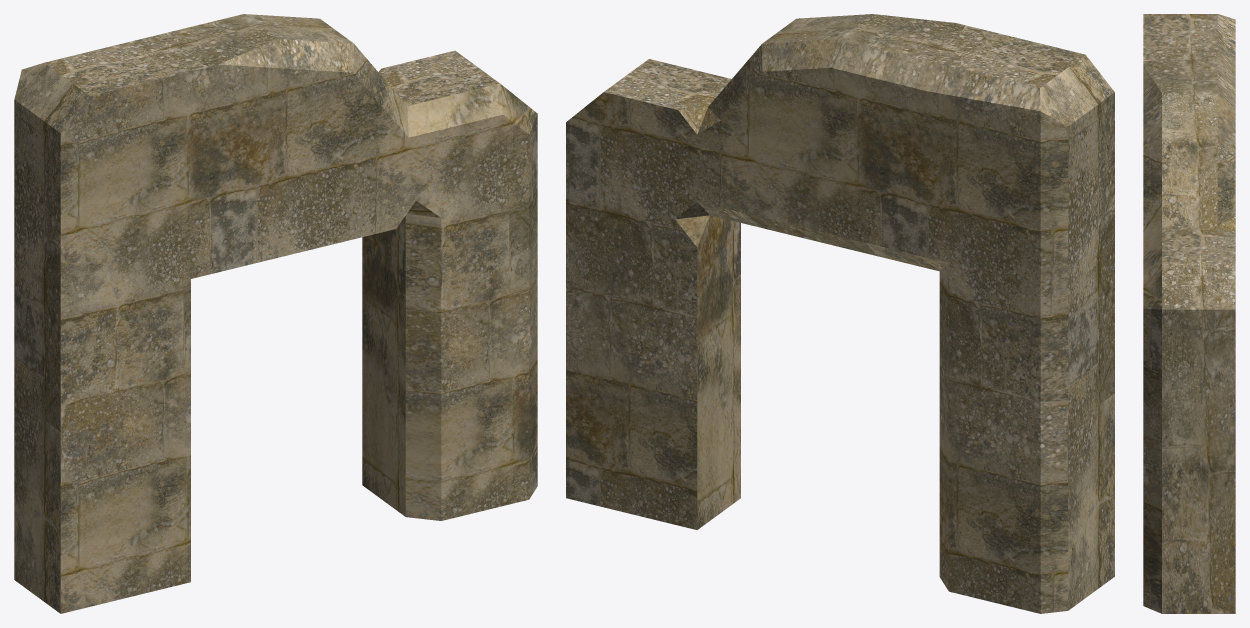
Rendered from wall4.fbx.
The picture shows the model from 3 angles, left to right: view 1: azimuth 30°, elevation 25°; view 2: azimuth 150°, elevation 25°; view 3: azimuth 270°, elevation 25°; orthographic projection. The views are drawn at different scales.
Visible parts, largest first — view 1: Wall4; view 2: Wall4; view 3: Wall4.
Boxes of the visible parts, box(x1,y1,x2,y2) form: Wall4: box(14, 14, 537, 613); Wall4: box(566, 14, 1114, 613); Wall4: box(1143, 14, 1235, 613).
Bounding box in the file's own units: 500 × 500 × 100.
